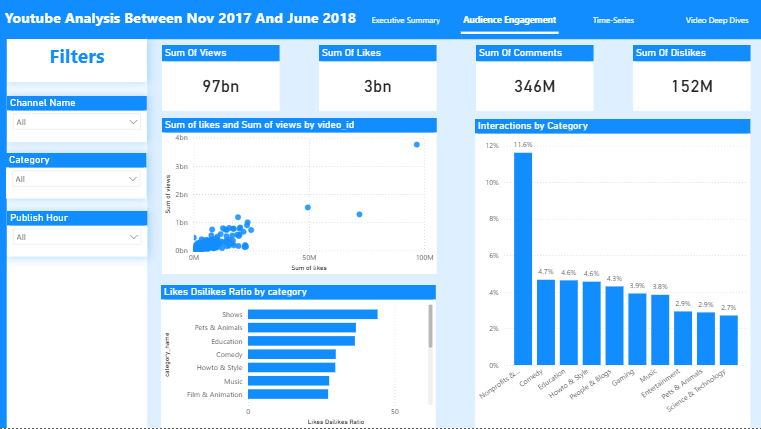

The dashboard page shown, as its layout file describes it:
{"tool":"powerbi","page":{"name":"Audience Engagement & Content Insights","canvas":[1280,720],"ordinal":1},"visuals":[{"type":"shape","box":[0,0,1280,72],"z":0},{"type":"shape","box":[0,71.4,247.1,648.6],"z":1000},{"type":"shape","box":[0,71.4,12.9,648.6],"z":2000},{"type":"textbox","box":[40,8.9,688.9,53.3],"z":3000},{"type":"card","title":"Sum Of Views","fields":{"Values":["Sum(Video_Stats.views)"]},"box":[272,82,196,110],"z":4000},{"type":"card","title":"Sum Of Likes","fields":{"Values":["Sum(Video_Stats.likes)"]},"box":[533.3,82,196,110],"z":5000},{"type":"card","title":"Sum Of Comments","fields":{"Values":["Sum(Video_Stats.comment_count)"]},"box":[794.7,82,196,110],"z":6000},{"type":"card","title":"Sum Of Dislikes","fields":{"Values":["Sum(Video_Stats.dislikes)"]},"box":[1056,82,196,110],"z":7000},{"type":"scatterChart","fields":{"X":["Sum(Video_Stats.likes)"],"Category":["Videos.video_id"],"Y":["Sum(Video_Stats.views)"]},"box":[271.7,203.3,458.3,260],"z":8000},{"type":"clusteredColumnChart","title":"Interactions by Category","fields":{"Y":["Video_Stats.Engament_Rate"],"Category":["Categories.category_name"]},"box":[793.8,205,458.8,515],"z":9000},{"type":"slicer","title":"Channel Name","fields":{"Values":["channels.channel_title"]},"box":[13.3,166.7,233.3,76.7],"z":10000},{"type":"textbox","box":[13.3,71.7,233.3,71.7],"z":11000},{"type":"slicer","title":"Category","fields":{"Values":["Categories.category_name"]},"box":[12,262,234,76],"z":12000},{"type":"slicer","title":"Publish Hour","fields":{"Values":["Videos.publish_Hour"]},"box":[13,358,234,76],"z":13000},{"type":"clusteredBarChart","title":"Likes Dsilikes Ratio by category","fields":{"Y":["Video_Stats.Likes Dsilikes Ratio"],"Category":["Categories.category_name"]},"box":[270,481.7,458.3,238.3],"z":13001}]}

Visuals, with their boxes in screenshot pixels (x1, y1, x2, y2), scaled from the page's 1280x720 canvas onto the 761x429 screenshot:
shape: bbox=(0, 0, 760, 43)
shape: bbox=(0, 43, 147, 428)
shape: bbox=(0, 43, 8, 428)
textbox: bbox=(24, 5, 433, 37)
"Sum Of Views" card: bbox=(162, 49, 278, 114)
"Sum Of Likes" card: bbox=(317, 49, 434, 114)
"Sum Of Comments" card: bbox=(472, 49, 589, 114)
"Sum Of Dislikes" card: bbox=(628, 49, 744, 114)
scatterChart - Sum(Video_Stats.likes) x Videos.video_id: bbox=(162, 121, 434, 276)
"Interactions by Category" clusteredColumnChart: bbox=(472, 122, 745, 428)
"Channel Name" slicer: bbox=(8, 99, 147, 145)
textbox: bbox=(8, 43, 147, 85)
"Category" slicer: bbox=(7, 156, 146, 201)
"Publish Hour" slicer: bbox=(8, 213, 147, 259)
"Likes Dsilikes Ratio by category" clusteredBarChart: bbox=(161, 287, 433, 428)
